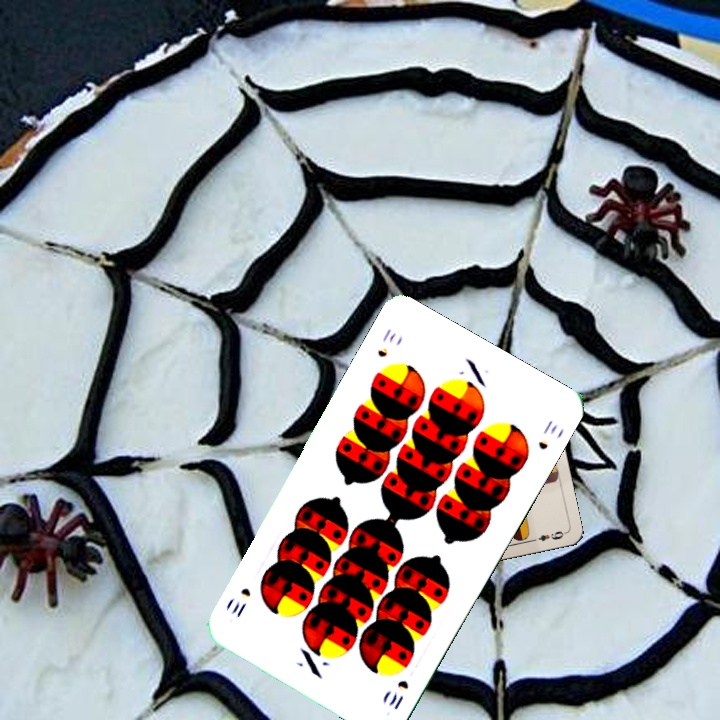S10: (384, 676, 411, 712), (373, 324, 399, 360)
